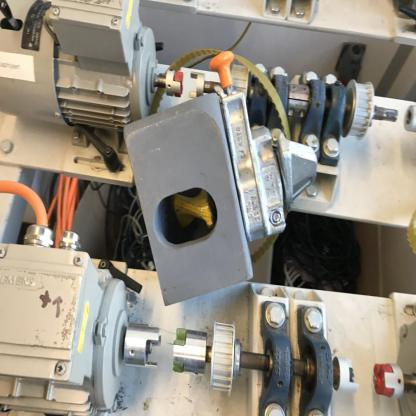CornerCasting: (119, 81, 248, 299)
Twistlock: (215, 42, 321, 247)
